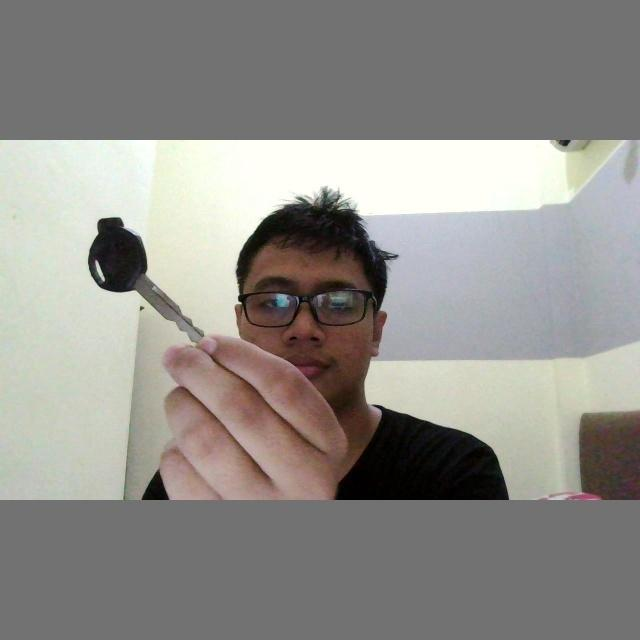Keys: (88, 211, 208, 349)
